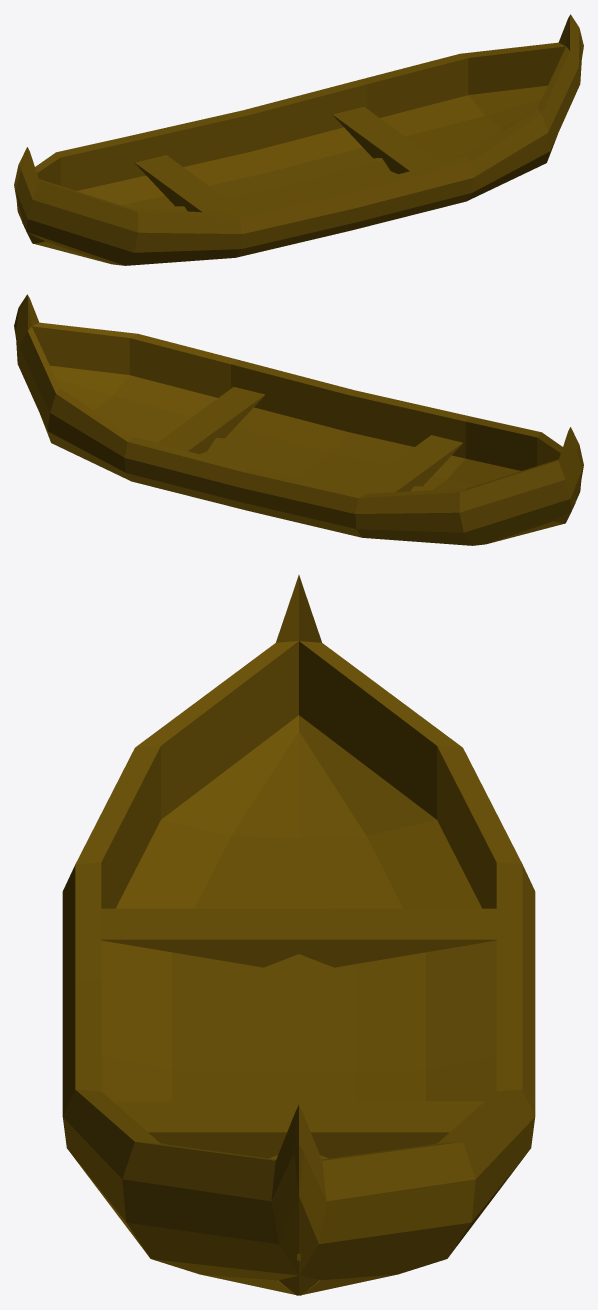
The model's file is canoa.fbx.
The picture shows the model from 3 angles, top to bottom: view 1: azimuth 30°, elevation 25°; view 2: azimuth 150°, elevation 25°; view 3: azimuth 270°, elevation 25°; orthographic projection. The views are drawn at different scales.
Parts seen in each view (by area): view 1: Plano; view 2: Plano; view 3: Plano.
Part boxes in pixels (box(x1,y1,x2,y2)): Plano: box(14, 14, 583, 265); Plano: box(14, 294, 583, 545); Plano: box(62, 575, 535, 1295).
Size of the model in its own units: 953 by 196 by 342.
